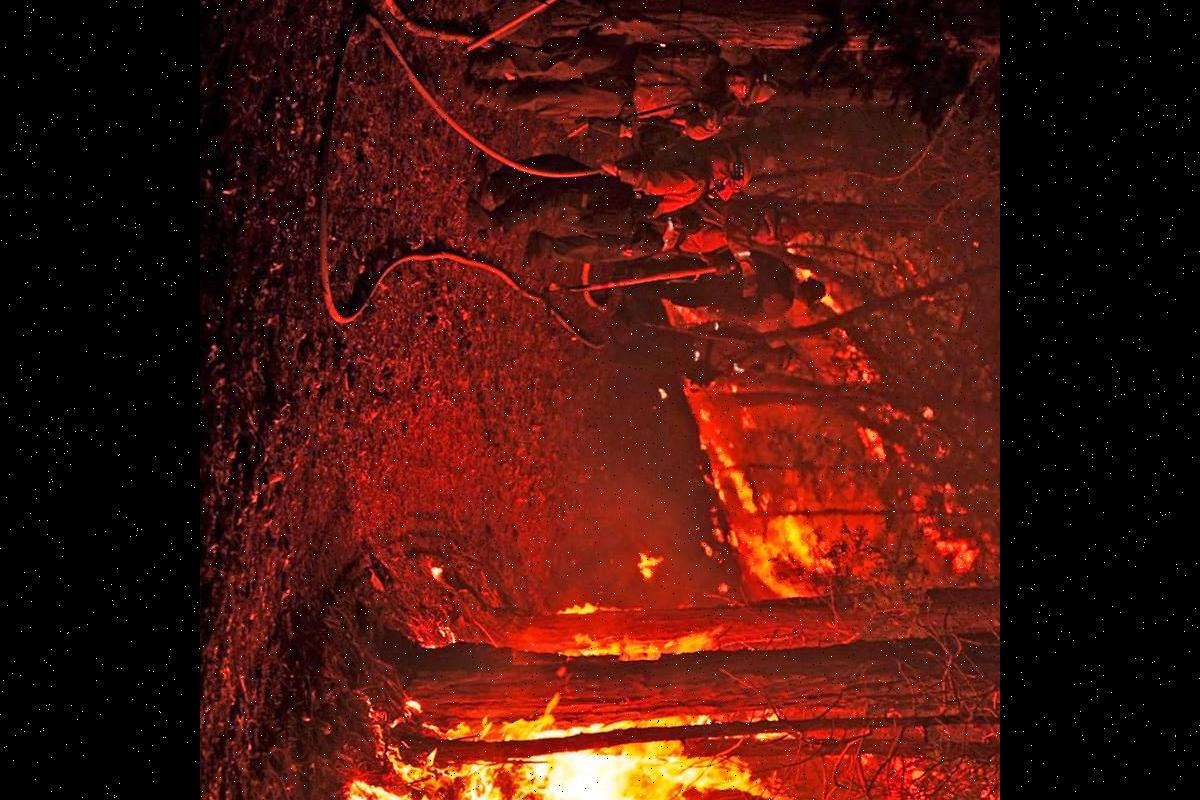fire: (230, 577, 999, 800)
